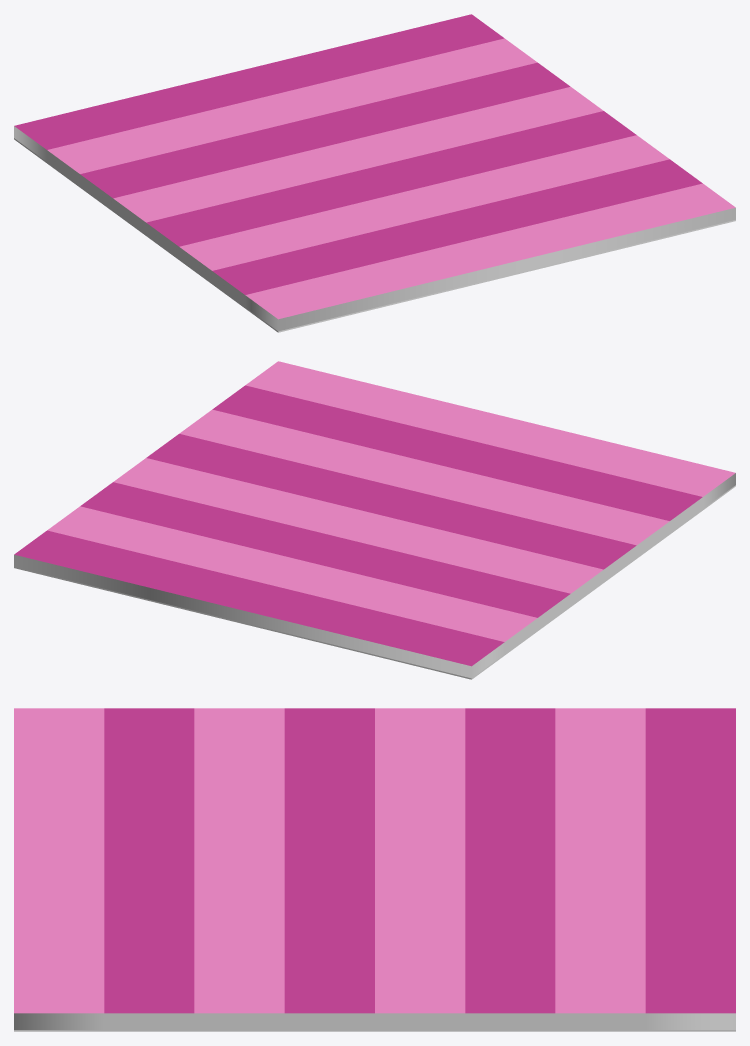
File: ALFOMBRA.fbx
3 views of the same model, one above another, from view 1: azimuth 30°, elevation 25°; view 2: azimuth 150°, elevation 25°; view 3: azimuth 270°, elevation 25° (orthographic). The views are drawn at different scales.
Visible parts, largest first — view 1: alfombra; view 2: alfombra; view 3: alfombra.
Part boxes in pixels (x1=…): alfombra: x1=14, y1=14, x2=735, y2=332; alfombra: x1=14, y1=361, x2=735, y2=679; alfombra: x1=14, y1=708, x2=735, y2=1031.
Size of the model in its own units: 794 by 22.33 by 794.
